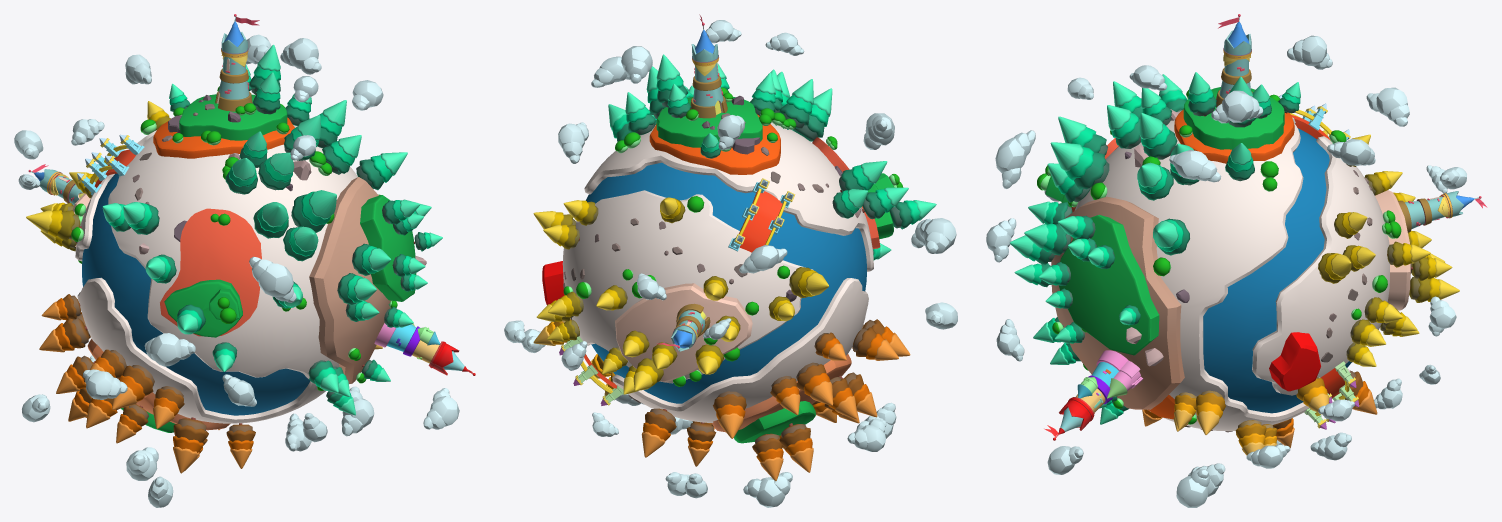
Rendered from Level_P_48.fbx.
3 renders of one model, left to right at view 1: azimuth 30°, elevation 25°; view 2: azimuth 150°, elevation 25°; view 3: azimuth 270°, elevation 25°, orthographic. The views are drawn at different scales.
Visible parts, largest first — view 1: Mesh.025, Mesh.027, pPlane6.002, pPlane4.002, pPlane3.002, pPlane11.001, polySurface673, pPlane2.002, Tower_A_02.001, polySurface648, Bridge_01.001, Pine_Tree_16.001 (+56 smaller); view 2: Mesh.024, Mesh.025, Mesh.027, pPlane7.001, pPlane3.002, pPlane2.002, Bridge_01.001, Tower_A_02.001, pPlane9.001, Tower_A_03, pPlane8.001, Pine_Tree_73.001 (+54 smaller); view 3: Mesh.025, Mesh.024, Mesh.027, pPlane6.002, pPlane11.001, polySurface673, pPlane3.002, pPlane12.001, Pine_Tree_16.001, Tower_A_02.001, pPlane2.002, Tower_A_03 (+48 smaller).
Boxes of the visible parts, x1,y1,x2,y2 form: Mesh.025: (77,125,357,423); Mesh.027: (82,173,310,415); pPlane6.002: (309,177,397,383); pPlane4.002: (160,208,261,336); pPlane3.002: (168,86,287,140); pPlane11.001: (360,195,426,301); polySurface673: (374,323,475,375); pPlane2.002: (153,107,294,158); Tower_A_02.001: (215,14,259,111); polySurface648: (164,279,242,337); Bridge_01.001: (77,134,144,195); Pine_Tree_16.001: (291,190,336,232); Mesh.024: (562,190,813,386); Mesh.025: (584,122,873,422); Mesh.027: (586,162,866,403); pPlane7.001: (615,283,752,382); pPlane3.002: (656,97,762,154); pPlane2.002: (649,114,780,174); Bridge_01.001: (728,178,795,252); Tower_A_02.001: (690,14,727,118); pPlane9.001: (734,401,815,443); Tower_A_03: (656,303,710,351); pPlane8.001: (712,354,851,432); Pine_Tree_73.001: (641,408,676,457); Mesh.025: (1068,111,1350,432); Mesh.024: (1252,136,1391,395); Mesh.027: (1203,128,1351,413); pPlane6.002: (1051,196,1184,409); pPlane11.001: (1059,214,1159,355); polySurface673: (1044,350,1143,440); pPlane3.002: (1183,87,1284,149); pPlane12.001: (1269,332,1320,391); Pine_Tree_16.001: (1050,142,1109,189); Tower_A_02.001: (1216,14,1252,107); pPlane2.002: (1174,94,1294,163); Tower_A_03: (1398,191,1487,232).
Size of the model in its own units: 20.79 by 24.64 by 23.49.
